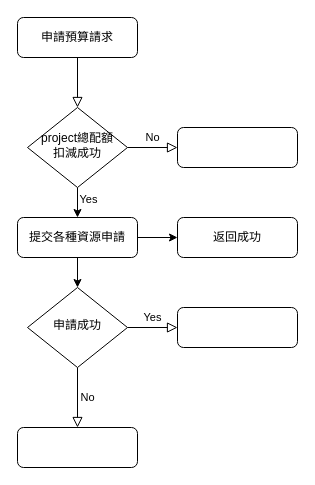
This 315x485 diagram has some shape labels left out. The centre of each missing label's shape, as x and y in pixels:
"标记审批中" belongs at point 237,327.
"标记申请异常" belongs at point 77,447.
"返回錯誤" belongs at point 237,147.
